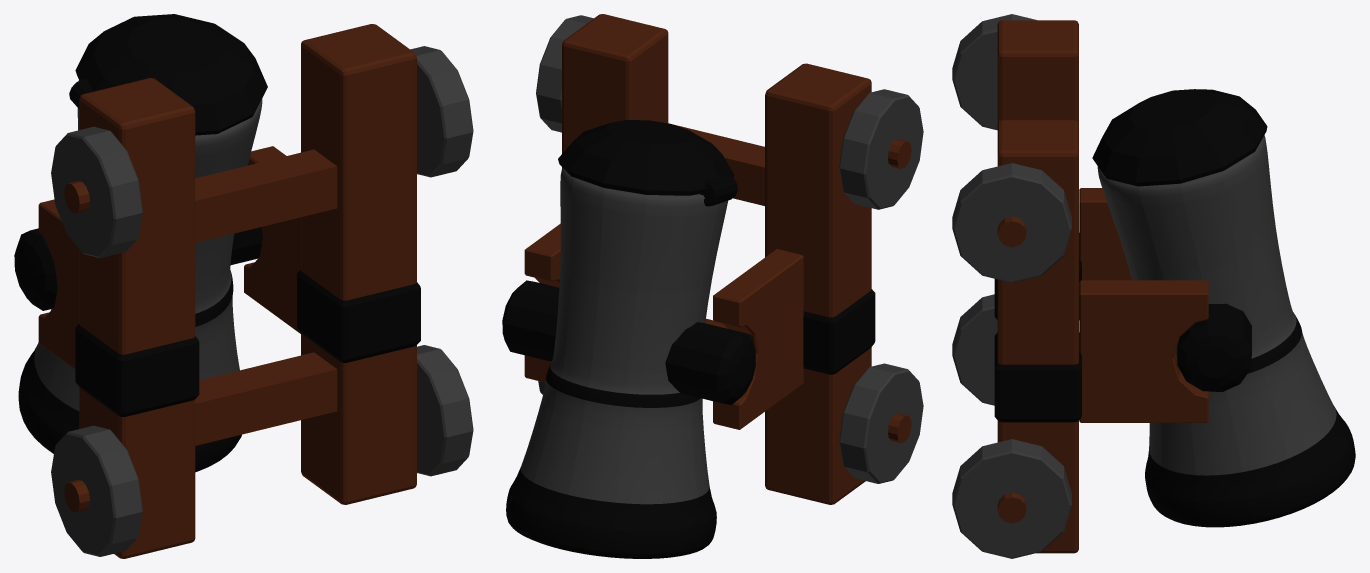
The model's file is Cannon.fbx.
3 views of the same model, side by side, from view 1: azimuth 30°, elevation 25°; view 2: azimuth 150°, elevation 25°; view 3: azimuth 270°, elevation 25° (orthographic). The views are drawn at different scales.
Parts seen in each view (by area): view 1: Cylinder.001, Cylinder.003; view 2: Cylinder.003, Cylinder.001; view 3: Cylinder.001, Cylinder.003.
Part boxes in pixels (x1,y1,x2,y2): Cylinder.001: (38,24,473,558); Cylinder.003: (14,14,267,472); Cylinder.003: (502,120,755,558); Cylinder.001: (524,14,923,504); Cylinder.001: (952,14,1208,558); Cylinder.003: (1092,89,1355,527).
Size of the model in its own units: 1.04 by 1.17 by 1.03.
